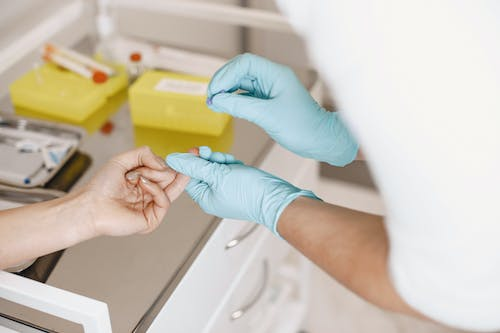blood: (190, 145, 199, 156)
